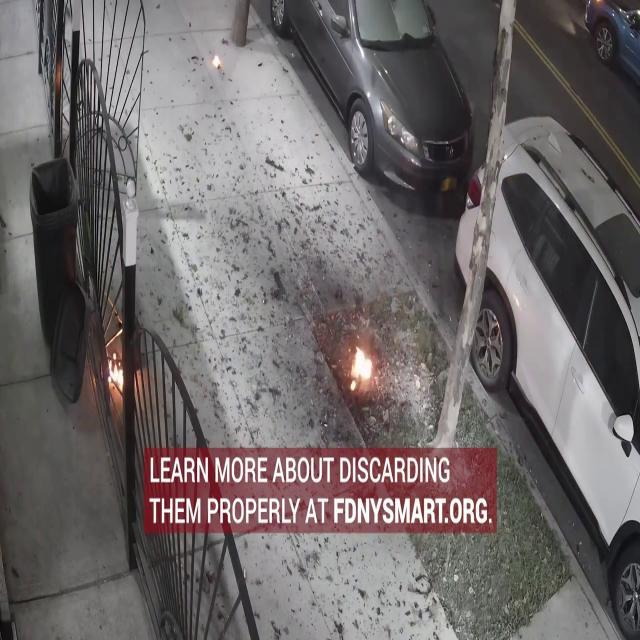Fire: (348, 336, 376, 394), (108, 348, 125, 408)
